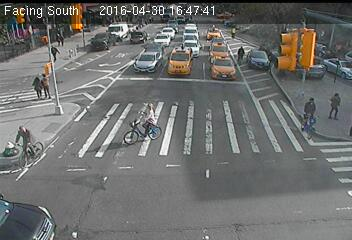neg: (127, 98, 163, 147), (6, 118, 41, 166), (296, 90, 329, 134), (242, 88, 271, 127), (55, 42, 84, 81), (182, 156, 210, 193), (78, 171, 105, 207), (69, 122, 95, 156), (264, 168, 289, 201), (192, 92, 216, 123), (169, 38, 192, 68), (282, 27, 303, 54), (135, 49, 152, 72), (131, 195, 147, 216), (239, 39, 253, 58), (208, 50, 221, 67)
pos: (322, 87, 351, 124), (24, 73, 43, 99), (39, 68, 57, 93)
